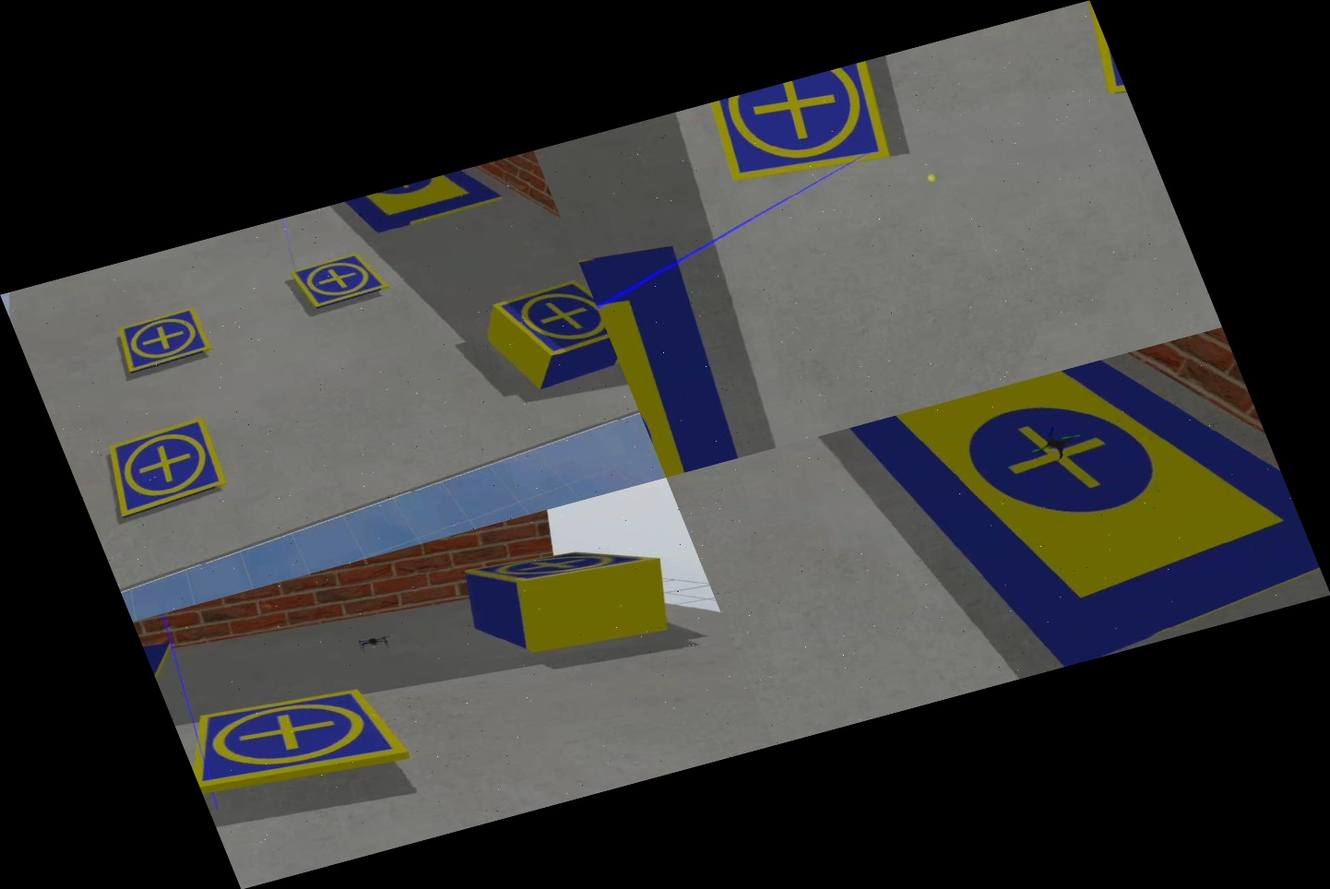large_base: (790, 327, 1330, 710), (572, 217, 766, 477), (315, 160, 517, 258)
small_base: (172, 660, 424, 813), (692, 57, 916, 203), (459, 517, 664, 613), (89, 408, 241, 527), (476, 267, 615, 379), (101, 295, 221, 385), (279, 239, 398, 323)
